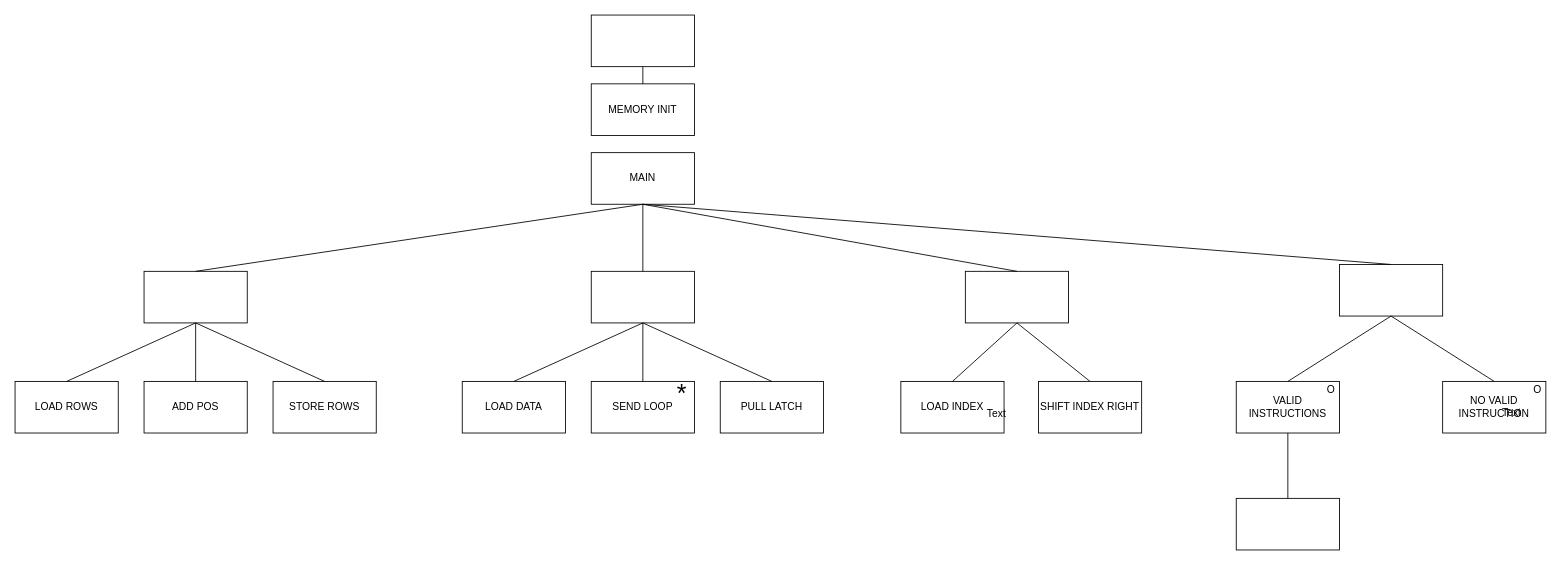
Some shapes in this 1561 by 565 pixel diagram are drawn without their labels. Each missing label, with the centre of its shape:
"CHECK_NEXT_INS" belongs at (x=1391, y=290).
"EXECUTE INSTRUCTION" belongs at (x=1287, y=524).
"INDEX SHIFT" belongs at (x=1016, y=296).
"INIT" belongs at (x=642, y=40).
"MEMORY READ" belongs at (x=195, y=296).
"SEND" belongs at (x=642, y=296).
